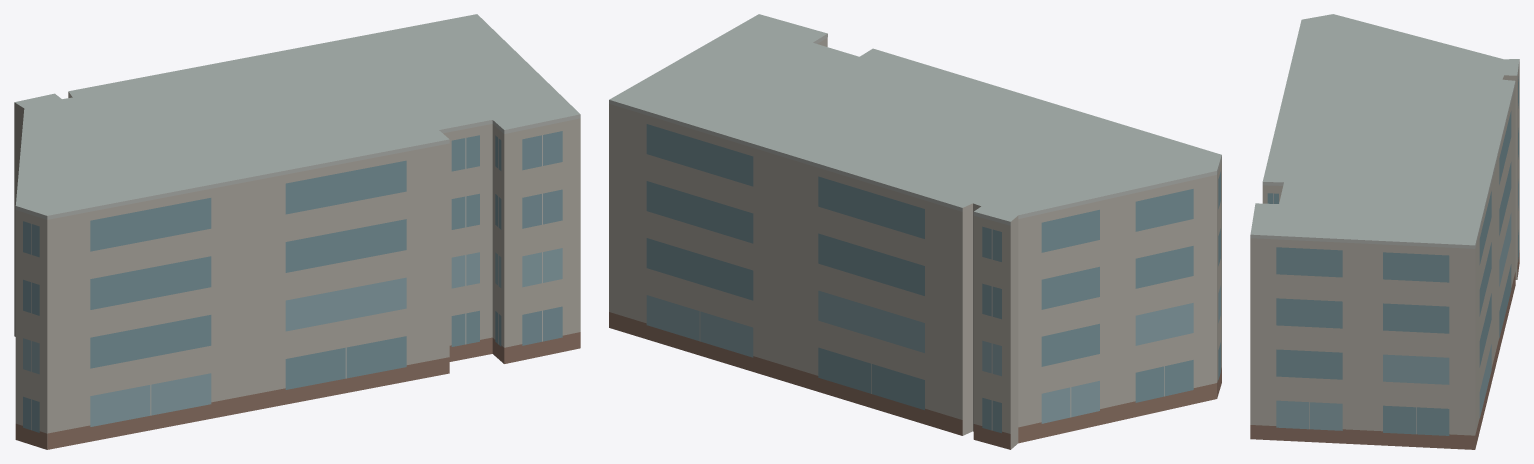
The model's file is survey-upis-32501842.glb.
The picture shows the model from 3 angles, left to right: view 1: azimuth 30°, elevation 25°; view 2: azimuth 150°, elevation 25°; view 3: azimuth 270°, elevation 25°; orthographic projection. The views are drawn at different scales.
Visible parts, largest first — view 1: survey-upis-32501842.tmp; view 2: survey-upis-32501842.tmp; view 3: survey-upis-32501842.tmp.
Part boxes in pixels (x1=…): survey-upis-32501842.tmp: x1=14, y1=14, x2=580, y2=449; survey-upis-32501842.tmp: x1=609, y1=14, x2=1221, y2=449; survey-upis-32501842.tmp: x1=1250, y1=14, x2=1519, y2=449.
Size of the model in its own units: 34.42 by 14.18 by 16.92.
